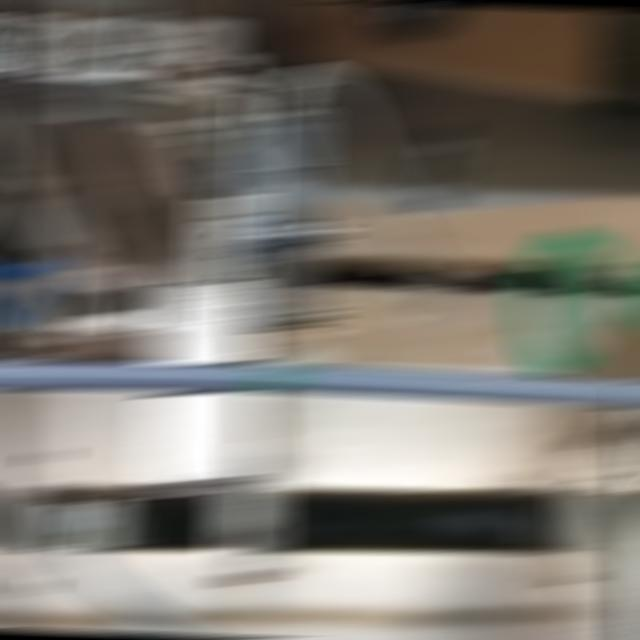green: (250, 363, 304, 394)
